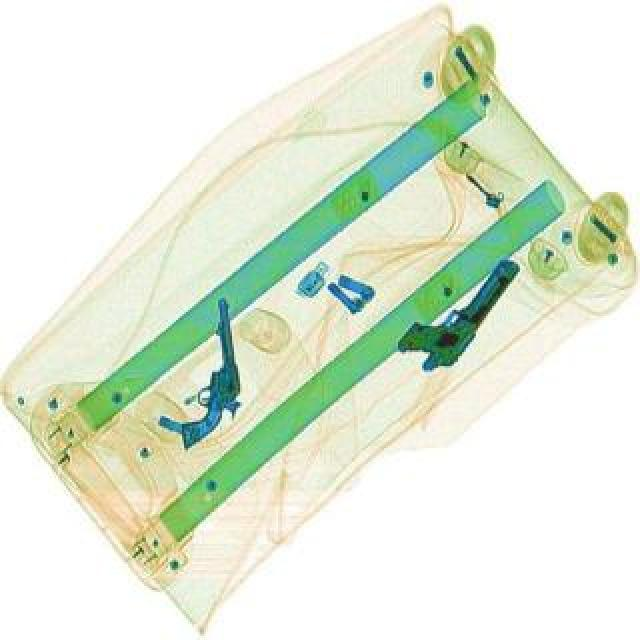gun: (392, 234, 524, 378), (164, 296, 248, 450)
